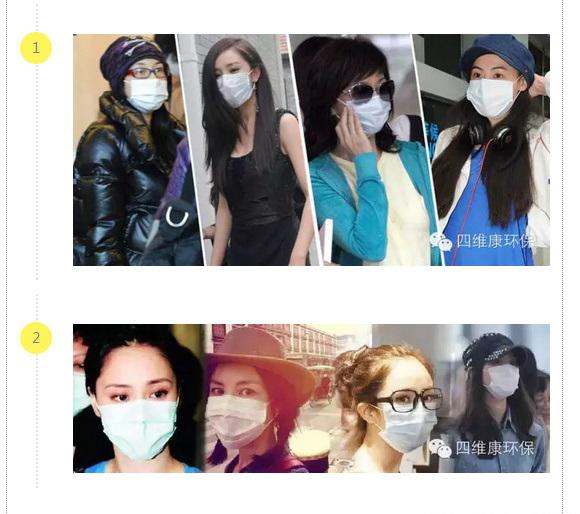OK: (98, 375, 178, 455), (209, 370, 282, 443), (368, 385, 441, 454), (335, 81, 396, 141), (213, 57, 268, 112), (468, 62, 523, 117), (121, 63, 171, 114), (484, 357, 521, 398)
